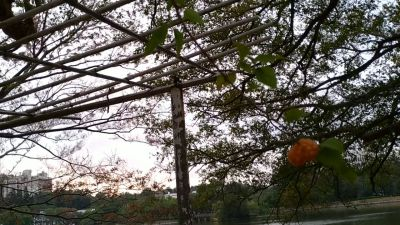eggs: (288, 138, 321, 168)
